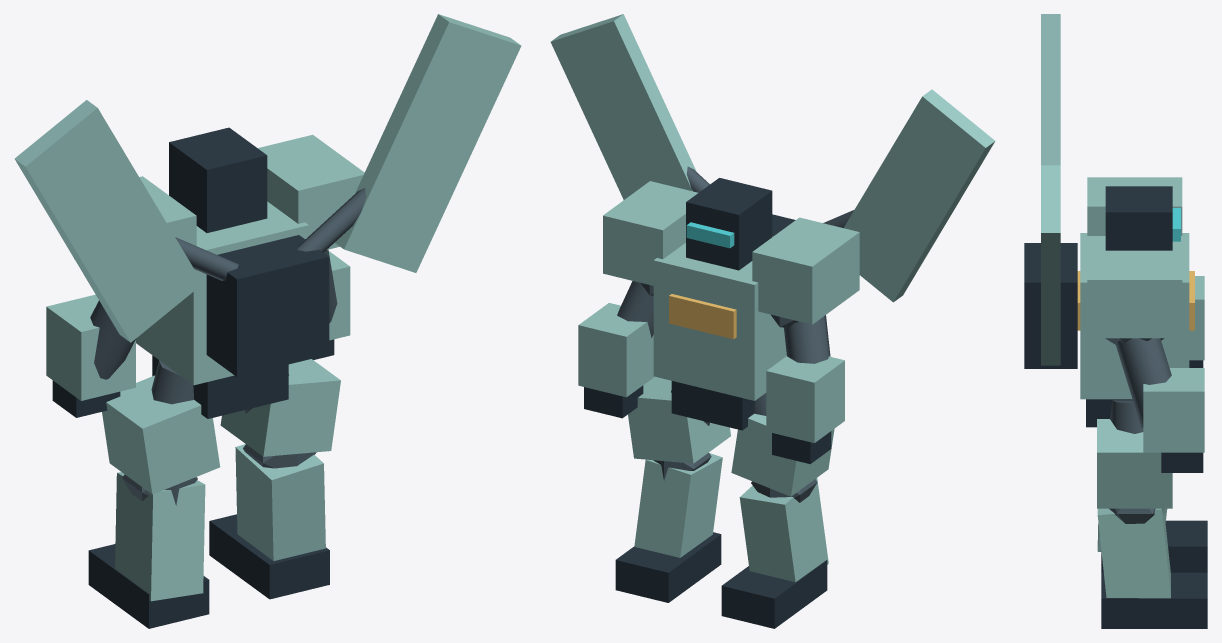
Rendered from frame-dusk-wing.glb.
The picture shows the model from 3 angles, left to right: view 1: azimuth 30°, elevation 25°; view 2: azimuth 150°, elevation 25°; view 3: azimuth 270°, elevation 25°; orthographic projection. The views are drawn at different scales.
Visible parts, largest first — view 1: frame-dusk-wing; view 2: frame-dusk-wing; view 3: frame-dusk-wing.
Boxes of the visible parts, x1,y1,x2,y2 form: frame-dusk-wing: (14,14,521,628); frame-dusk-wing: (550,14,995,628); frame-dusk-wing: (1024,14,1207,628).
Bounding box in the file's own units: 1.81 × 1.97 × 0.655.
